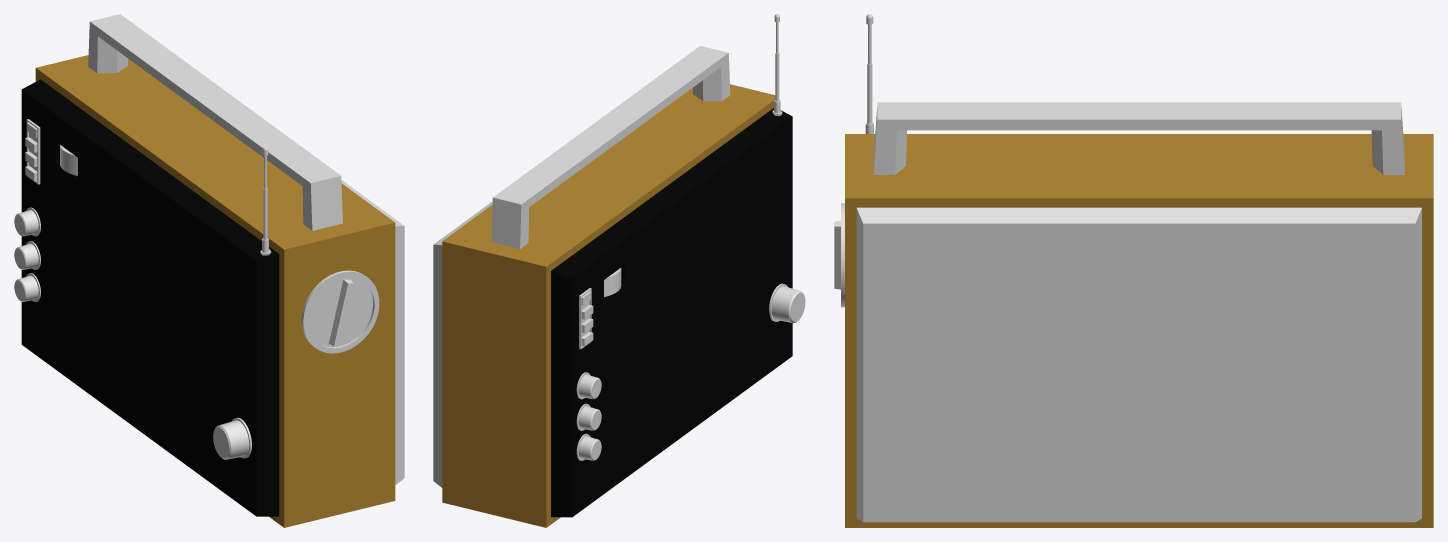
The model's file is Radio.FBX.
The picture shows the model from 3 angles, left to right: view 1: azimuth 30°, elevation 25°; view 2: azimuth 150°, elevation 25°; view 3: azimuth 270°, elevation 25°; orthographic projection. The views are drawn at different scales.
Parts seen in each view (by area): view 1: 13_low1; view 2: 13_low1; view 3: 13_low1.
Part boxes in pixels (x1,y1,x2,y2): 13_low1: (14, 14, 404, 527); 13_low1: (433, 14, 805, 527); 13_low1: (834, 14, 1433, 527).
Bounding box in the file's own units: 14.38 × 30.39 × 37.16.
